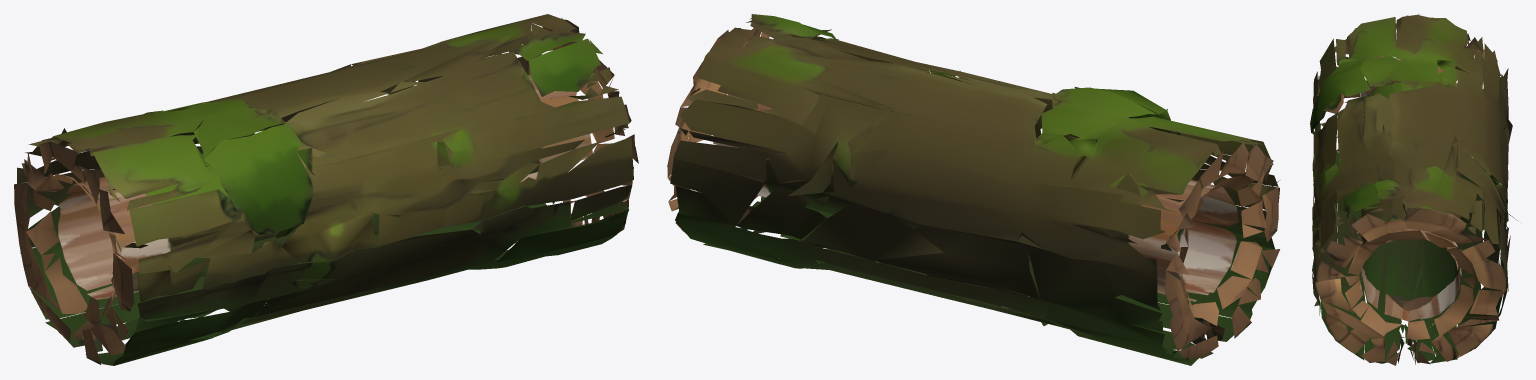
Rendered from Landing_FallenLog.glb.
3 renders of one model, left to right at view 1: azimuth 30°, elevation 25°; view 2: azimuth 150°, elevation 25°; view 3: azimuth 270°, elevation 25°, orthographic. The views are drawn at different scales.
Visible parts, largest first — view 1: Landing_FallenLog; view 2: Landing_FallenLog; view 3: Landing_FallenLog.
Boxes of the visible parts, x1,y1,x2,y2 form: Landing_FallenLog: (14, 14, 638, 365); Landing_FallenLog: (667, 14, 1279, 365); Landing_FallenLog: (1310, 14, 1518, 365).
Bounding box in the file's own units: 2.32 × 0.9099 × 1.05.
1 material, 1 textured.
